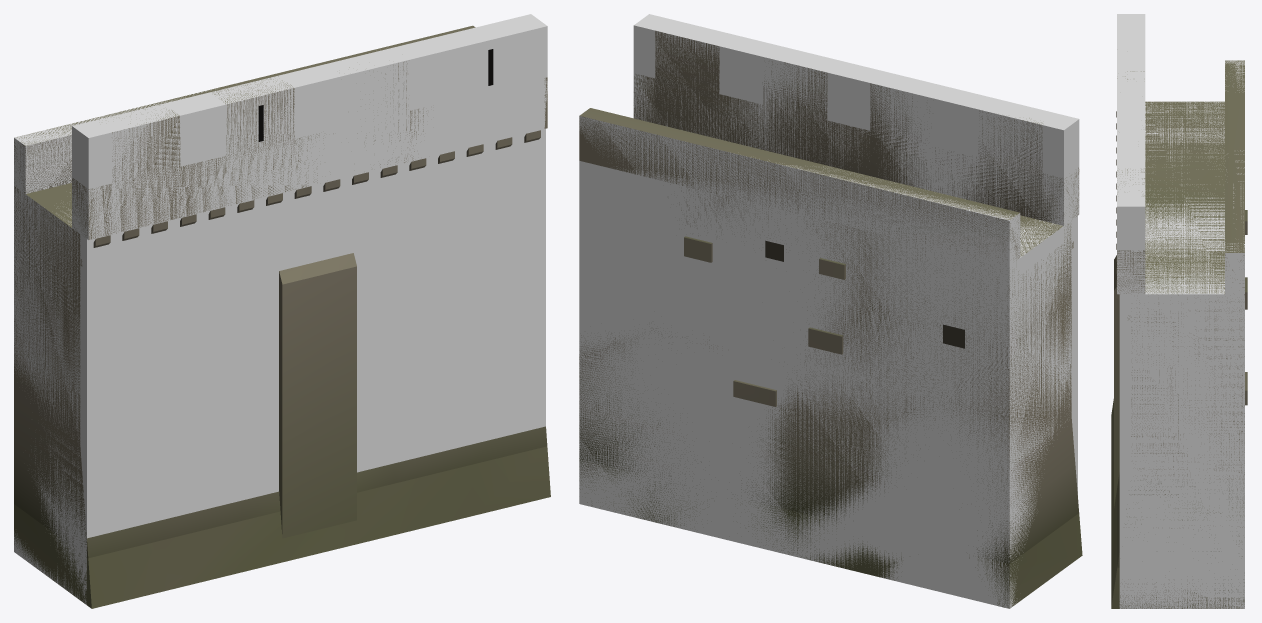
The model's file is castle_wall.glb.
3 views of the same model, side by side, from view 1: azimuth 30°, elevation 25°; view 2: azimuth 150°, elevation 25°; view 3: azimuth 270°, elevation 25° (orthographic). The views are drawn at different scales.
Parts seen in each view (by area): view 1: COL_wall, castle_wall, COL_parapet_front, COL_parapet_back; view 2: COL_wall, castle_wall, COL_parapet_front, COL_parapet_back, WALK_walk; view 3: COL_wall, castle_wall, WALK_walk, COL_parapet_front, COL_parapet_back.
Boxes of the visible parts, left/top/right/bottom form: COL_wall: left=14, top=128, right=545, bottom=604; castle_wall: left=14, top=25, right=550, bottom=608; COL_parapet_front: left=72, top=14, right=547, bottom=240; COL_parapet_back: left=14, top=88, right=217, bottom=193; COL_wall: left=579, top=161, right=1077, bottom=608; castle_wall: left=579, top=30, right=1082, bottom=608; COL_parapet_front: left=633, top=14, right=1079, bottom=225; COL_parapet_back: left=579, top=116, right=1020, bottom=265; WALK_walk: left=1020, top=218, right=1063, bottom=274; COL_wall: left=1119, top=294, right=1244, bottom=608; castle_wall: left=1111, top=60, right=1247, bottom=608; WALK_walk: left=1145, top=101, right=1224, bottom=309; COL_parapet_front: left=1117, top=14, right=1145, bottom=294; COL_parapet_back: left=1225, top=60, right=1244, bottom=294.
Size of the model in its own units: 8 by 7.8 by 2.4.
